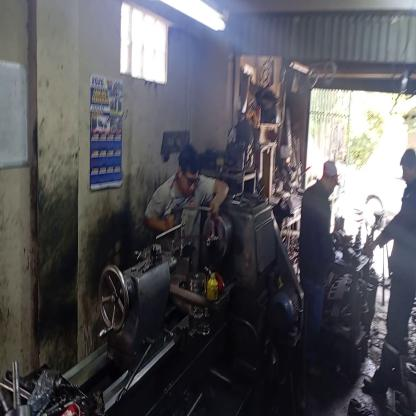lentes: (181, 166, 201, 190)
